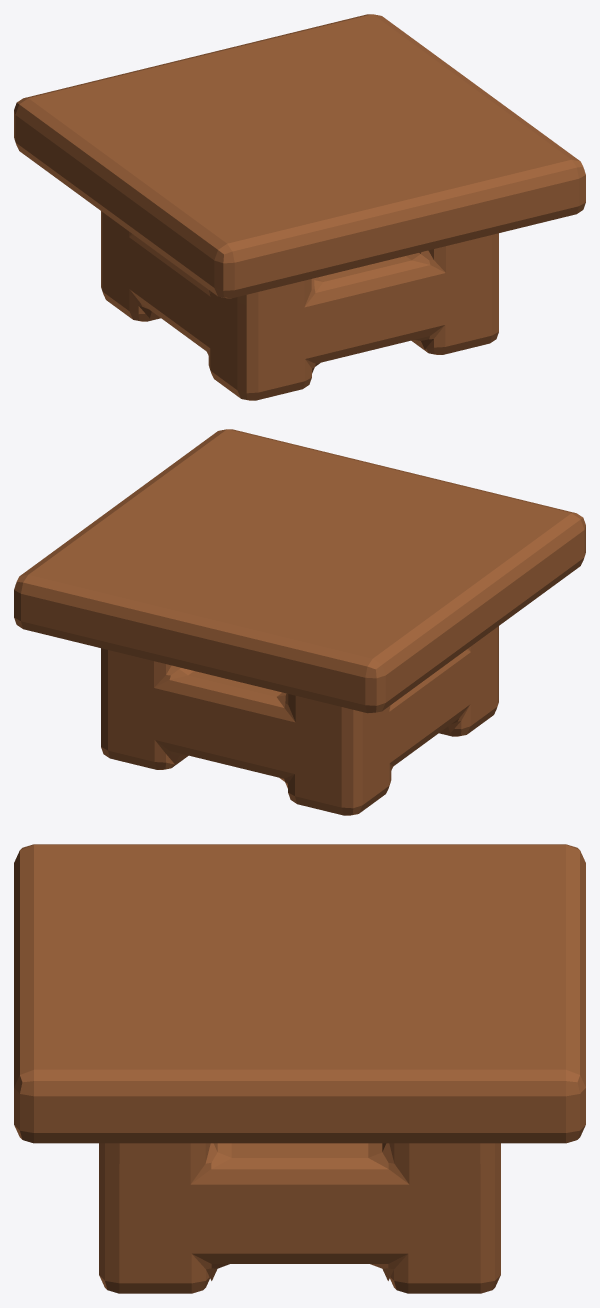
Rendered from StoolStaticLitle 1.fbx.
3 views of the same model, one above another, from view 1: azimuth 30°, elevation 25°; view 2: azimuth 150°, elevation 25°; view 3: azimuth 270°, elevation 25° (orthographic). The views are drawn at different scales.
Parts seen in each view (by area): view 1: StoolStaticLitle; view 2: StoolStaticLitle; view 3: StoolStaticLitle.
Part boxes in pixels (x1,y1,x2,y2): StoolStaticLitle: (14, 14, 585, 400); StoolStaticLitle: (14, 429, 585, 815); StoolStaticLitle: (14, 844, 585, 1293).
Bounding box in the file's own units: 100 × 100 × 50.
